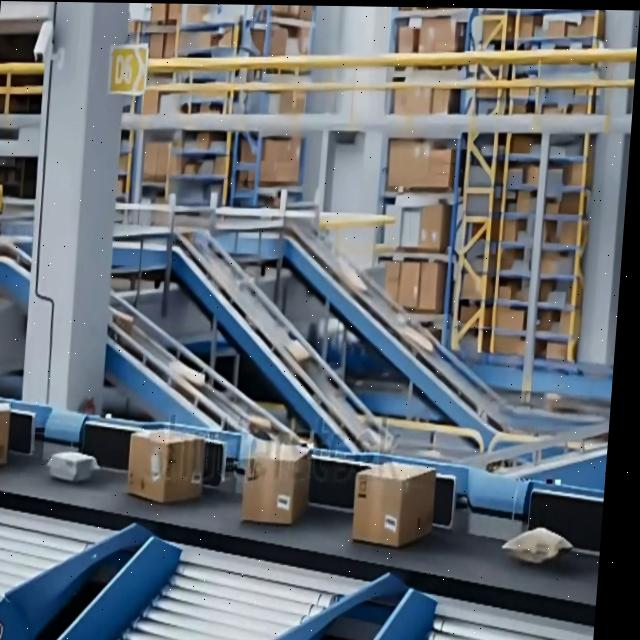product 1: (348, 460, 437, 547), (124, 426, 207, 504), (238, 440, 312, 525)
product 2: (43, 450, 100, 484)
